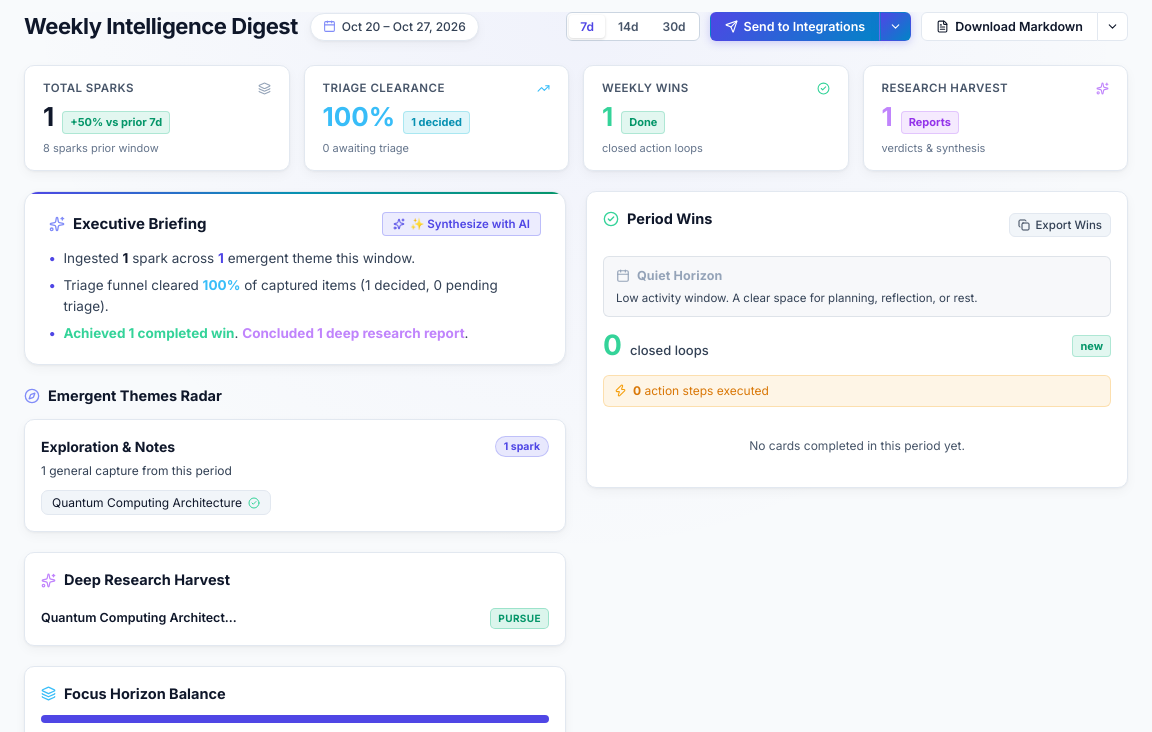
Scenario: DigestView › lists copy and download actions in the export menu, disabling copy without a clipboard
Step 1. Click the button named "More export options" → (1113, 26), box [1098,12,1128,41]
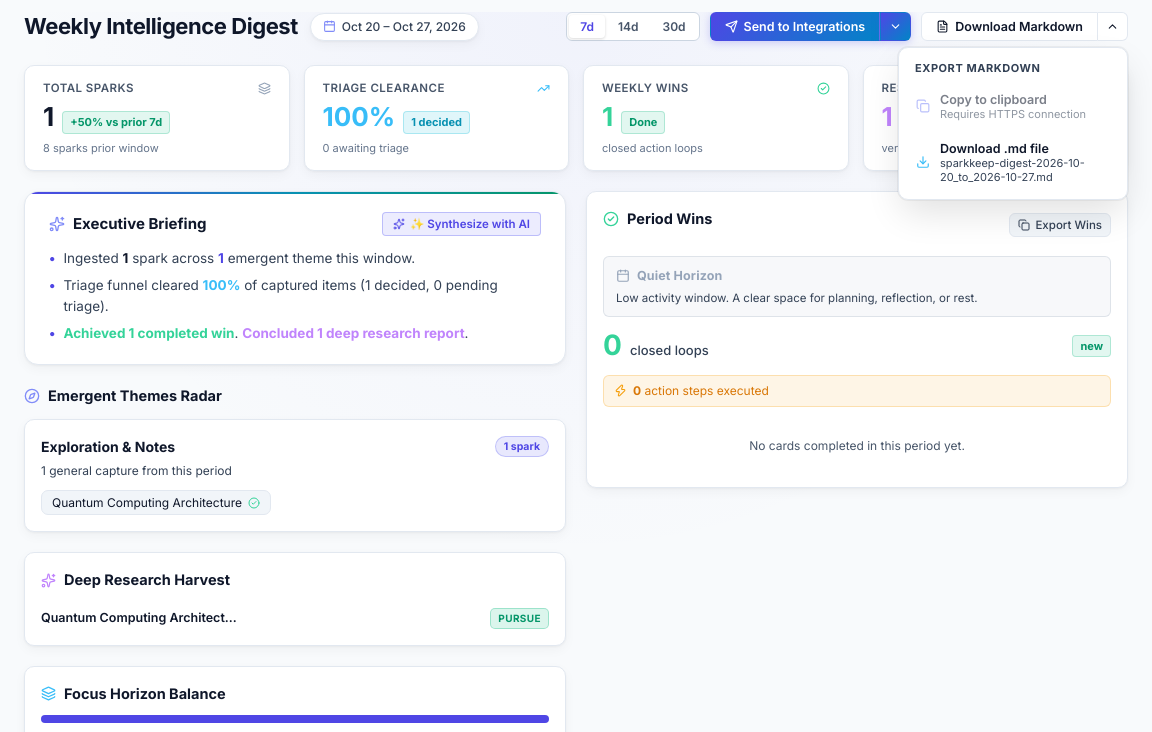
Check: the menu is shown, box [898,47,1128,200]
Check: the menu item "Copy to clipboard Requires HTTPS connection" is disabled, box [905,82,1121,130]
Check: the text "Requires HTTPS connection" is shown, box [940,106,1086,120]
